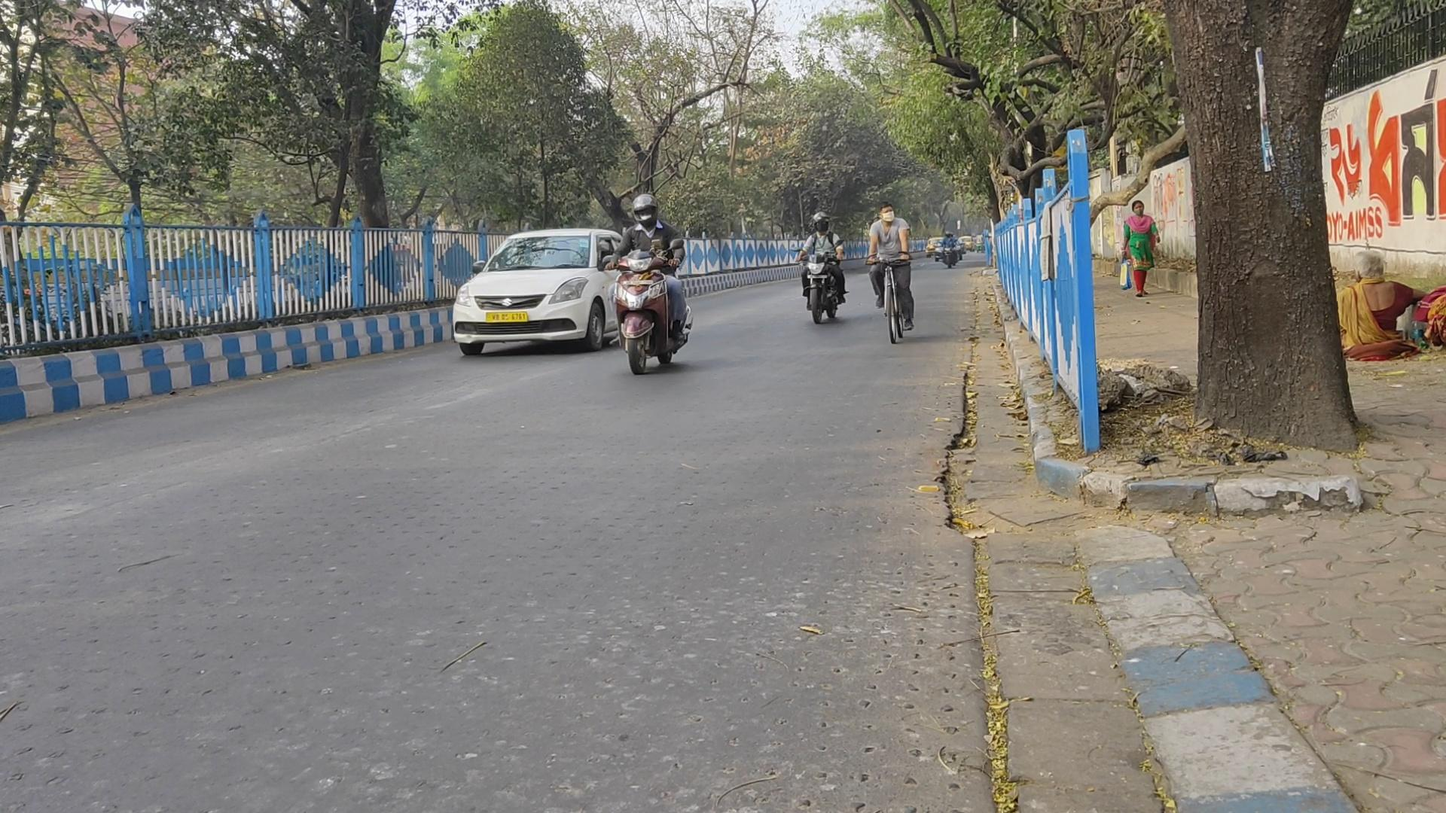bike: (605, 193, 693, 376), (865, 204, 914, 344), (796, 212, 850, 324), (939, 231, 958, 269)
car: (451, 227, 624, 357)
